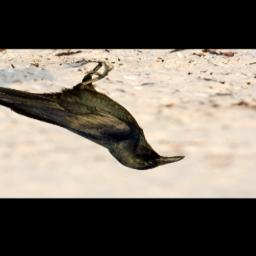Crow: (0, 62, 187, 171)
